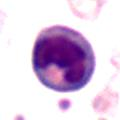monocyte: (26, 23, 96, 93)
